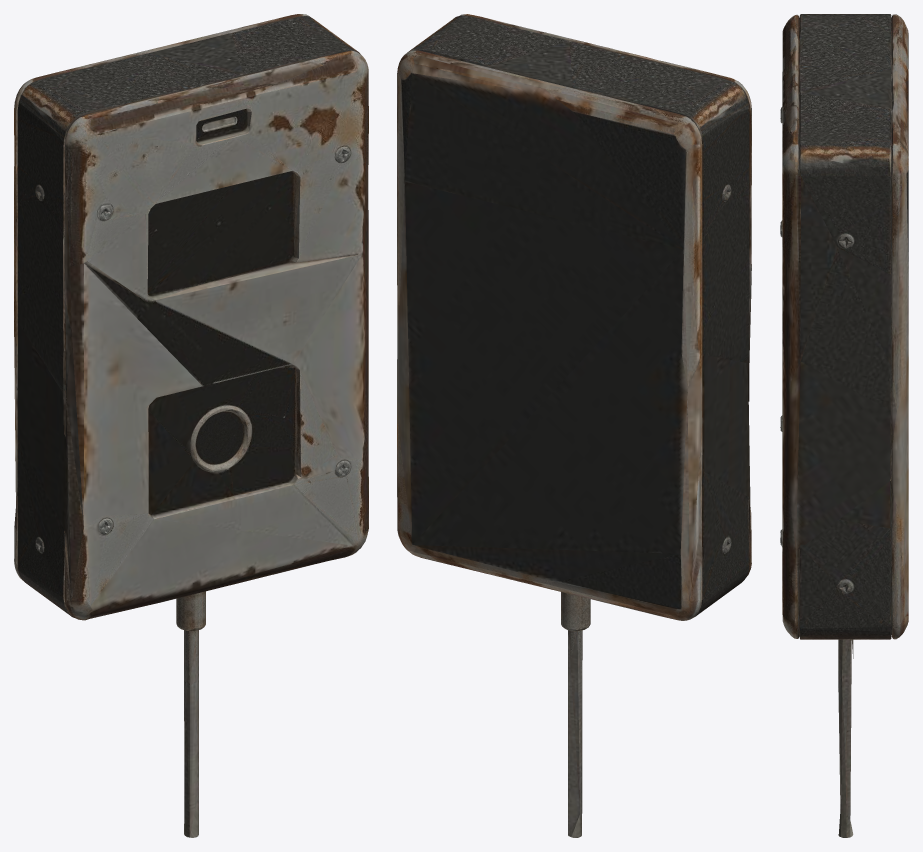
Rendered from lettore_2.glb.
3 views of the same model, side by side, from view 1: azimuth 30°, elevation 25°; view 2: azimuth 150°, elevation 25°; view 3: azimuth 270°, elevation 25° (orthographic).
Parts seen in each view (by area): view 1: Mesh_0; view 2: Mesh_0; view 3: Mesh_0.
Part boxes in pixels (x1=…): Mesh_0: x1=14, y1=14, x2=368, y2=837; Mesh_0: x1=397, y1=14, x2=751, y2=837; Mesh_0: x1=780, y1=14, x2=908, y2=837.
Size of the model in its own units: 0.1 by 0.2403 by 0.0369.
1 material, 1 textured.
